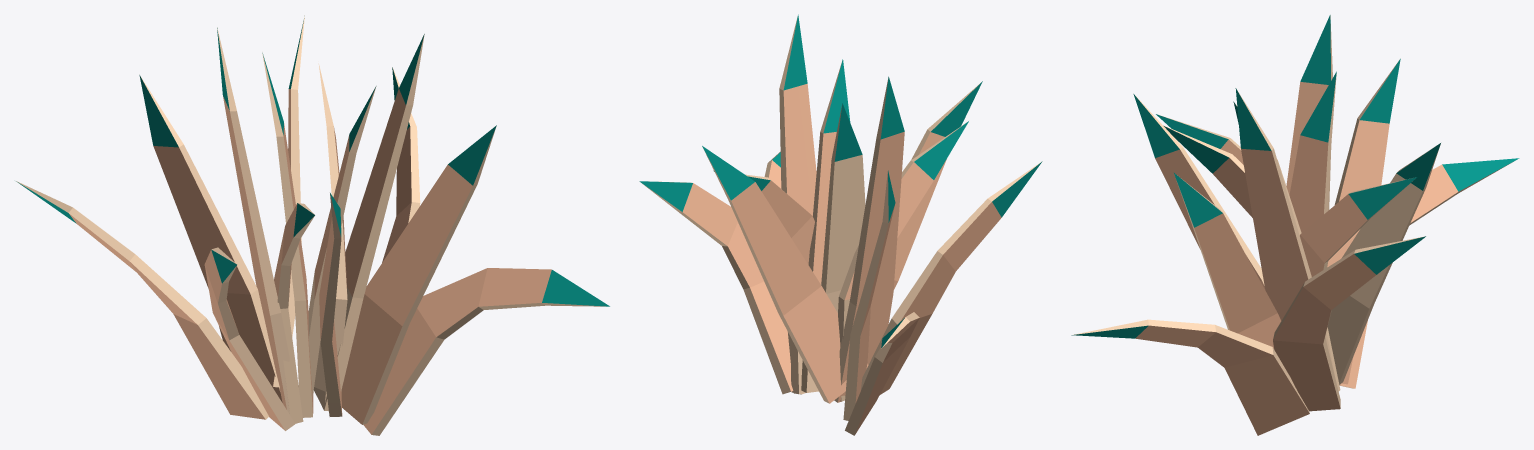
Rendered from plant.glb.
3 renders of one model, left to right at view 1: azimuth 30°, elevation 25°; view 2: azimuth 150°, elevation 25°; view 3: azimuth 270°, elevation 25°, orthographic. The views are drawn at different scales.
Parts seen in each view (by area): view 1: Grama_Grande; view 2: Grama_Grande; view 3: Grama_Grande.
Boxes of the visible parts, x1,y1,x2,y2 form: Grama_Grande: (16, 15, 609, 435); Grama_Grande: (639, 14, 1042, 435); Grama_Grande: (1071, 15, 1519, 435).
Size of the model in its own units: 1.17 by 1.32 by 1.46.
1 material, 1 textured.
